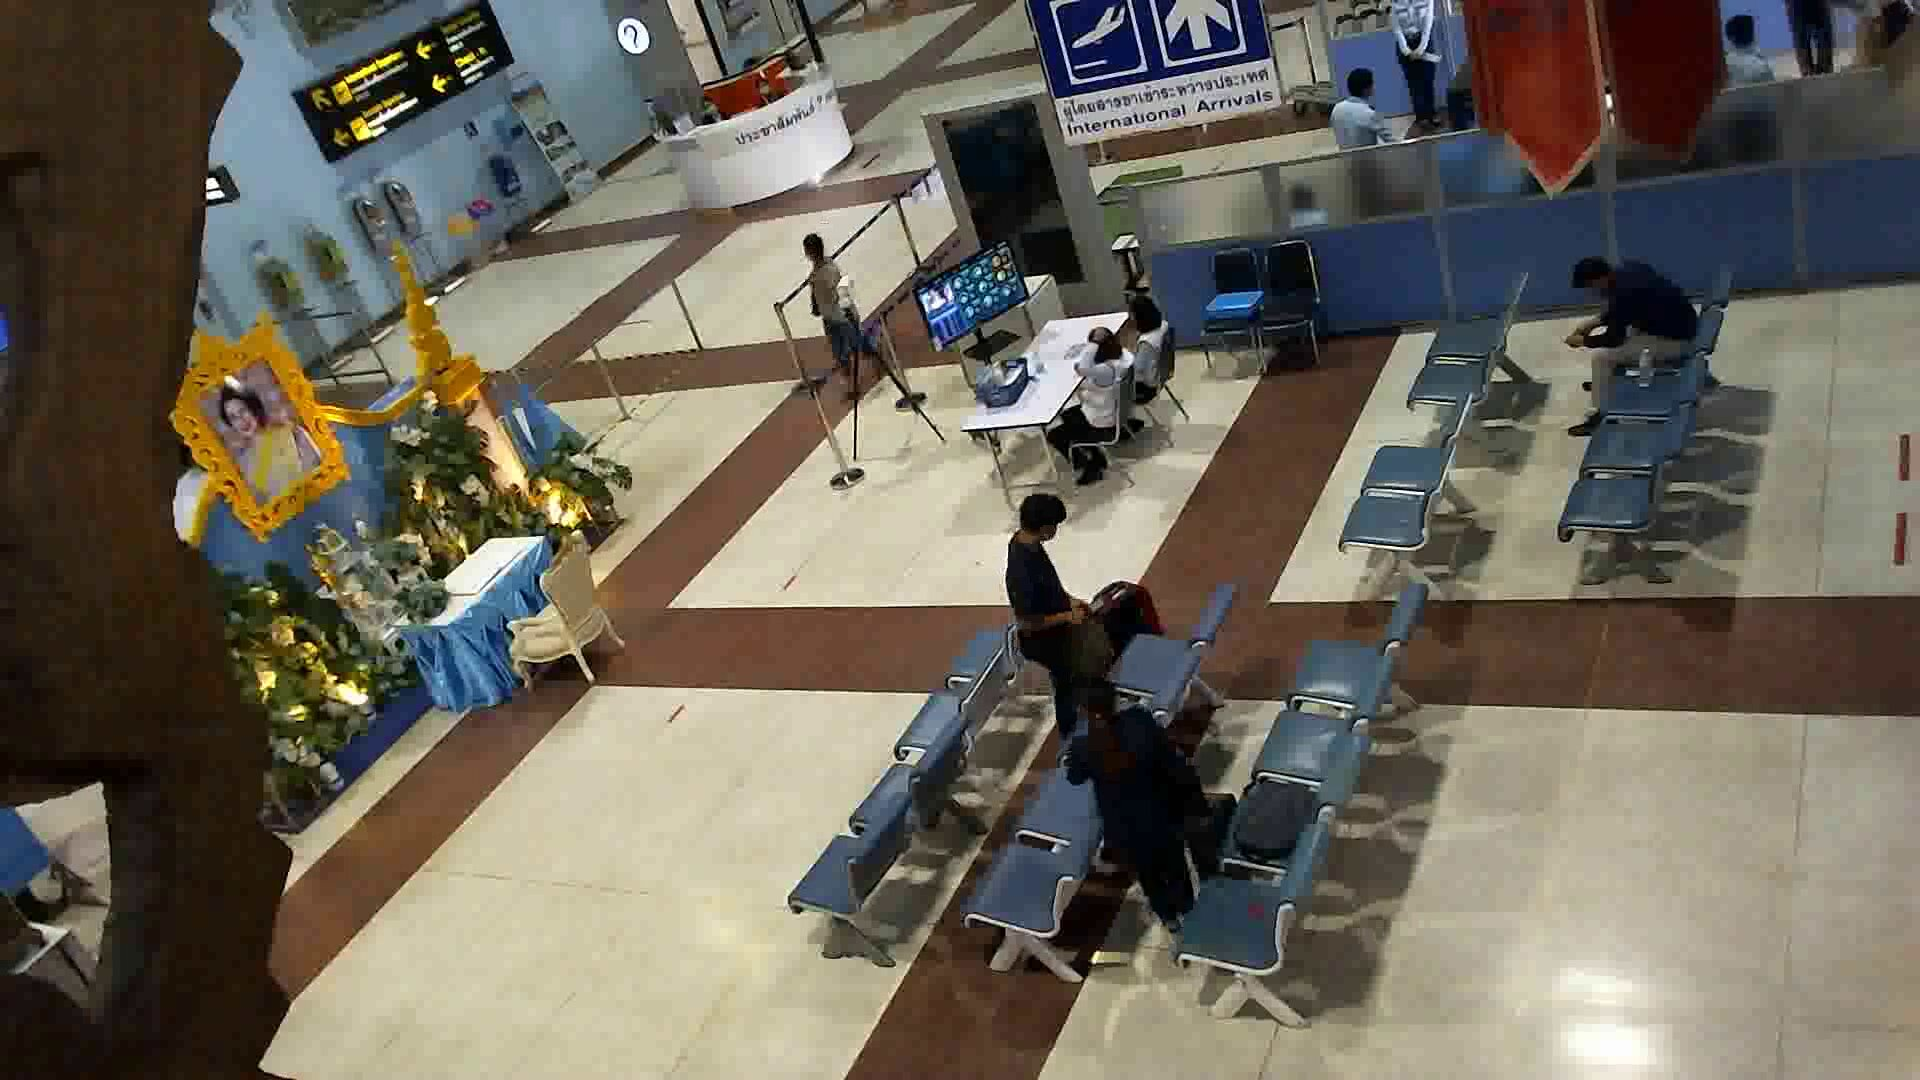backpack: (1231, 761, 1320, 866), (1074, 622, 1114, 676)
luggage: (1085, 574, 1168, 676), (1183, 778, 1243, 895)
people: (1079, 680, 1210, 974), (1560, 241, 1718, 445), (999, 482, 1085, 759), (791, 224, 885, 397), (1047, 316, 1137, 488), (1104, 266, 1187, 436)
